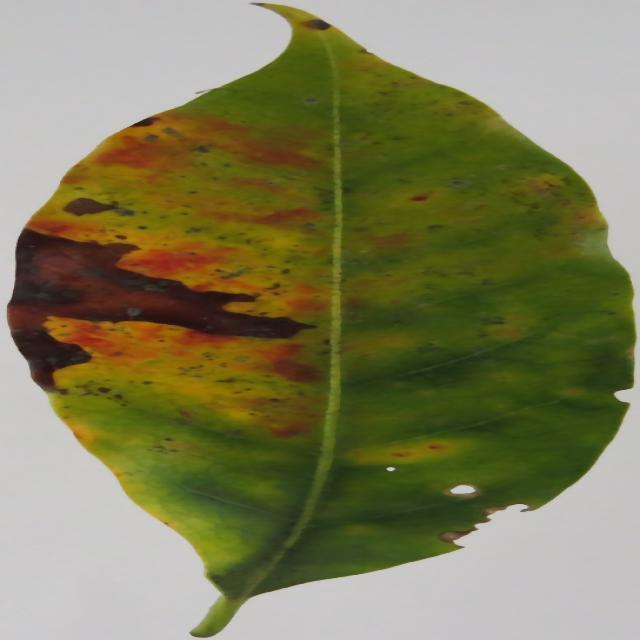DeficienciaNutricional-Fosforo: (10, 5, 632, 594)
